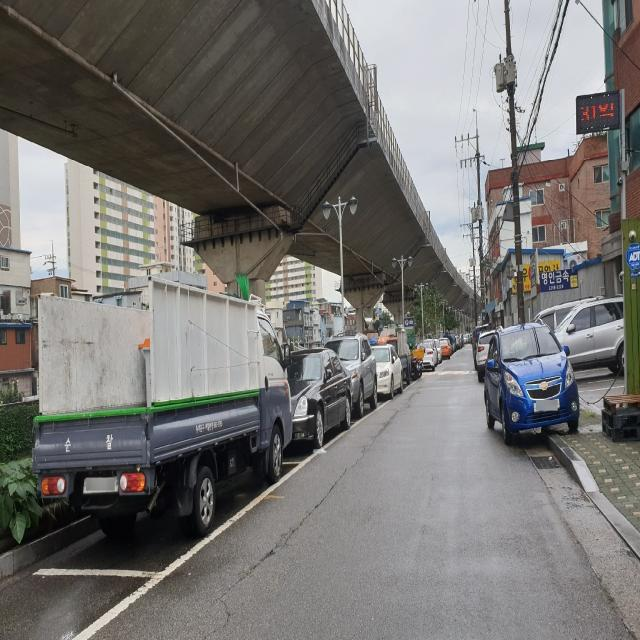car: (33, 276, 293, 534), (484, 318, 580, 447), (286, 349, 352, 448), (553, 297, 625, 376), (323, 332, 377, 416), (371, 344, 403, 399), (416, 342, 434, 371)
motorbike: (410, 356, 418, 380)
